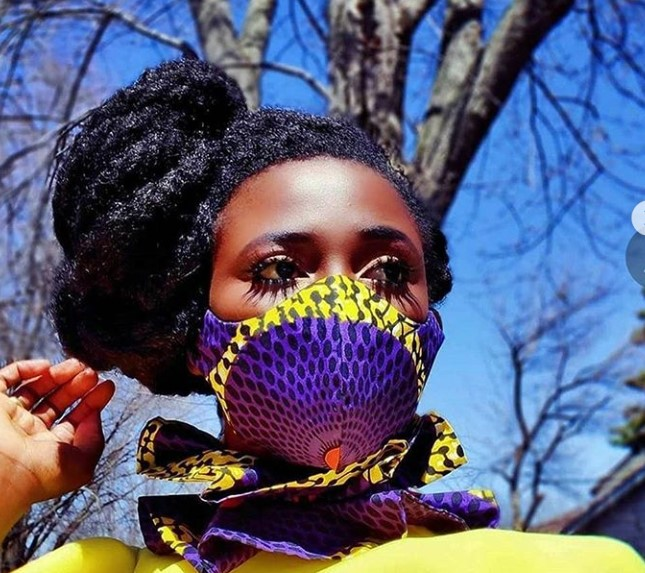face_with_mask: (159, 107, 449, 482)
